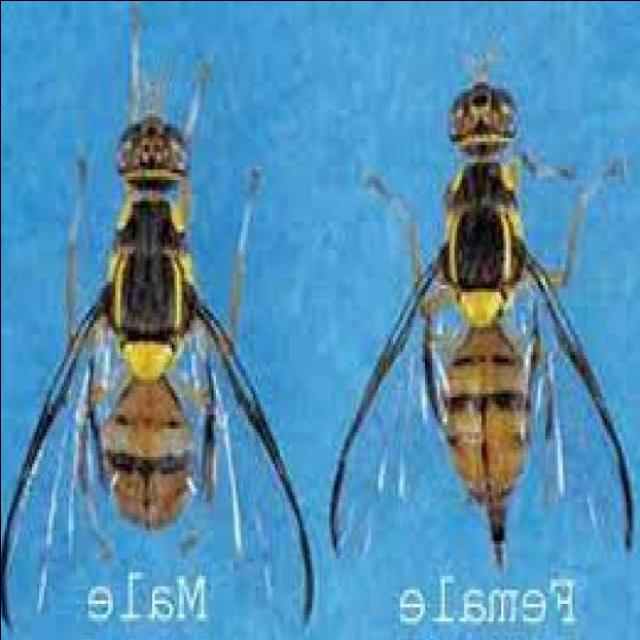Fruit fly: (0, 0, 321, 640), (323, 32, 637, 585)
